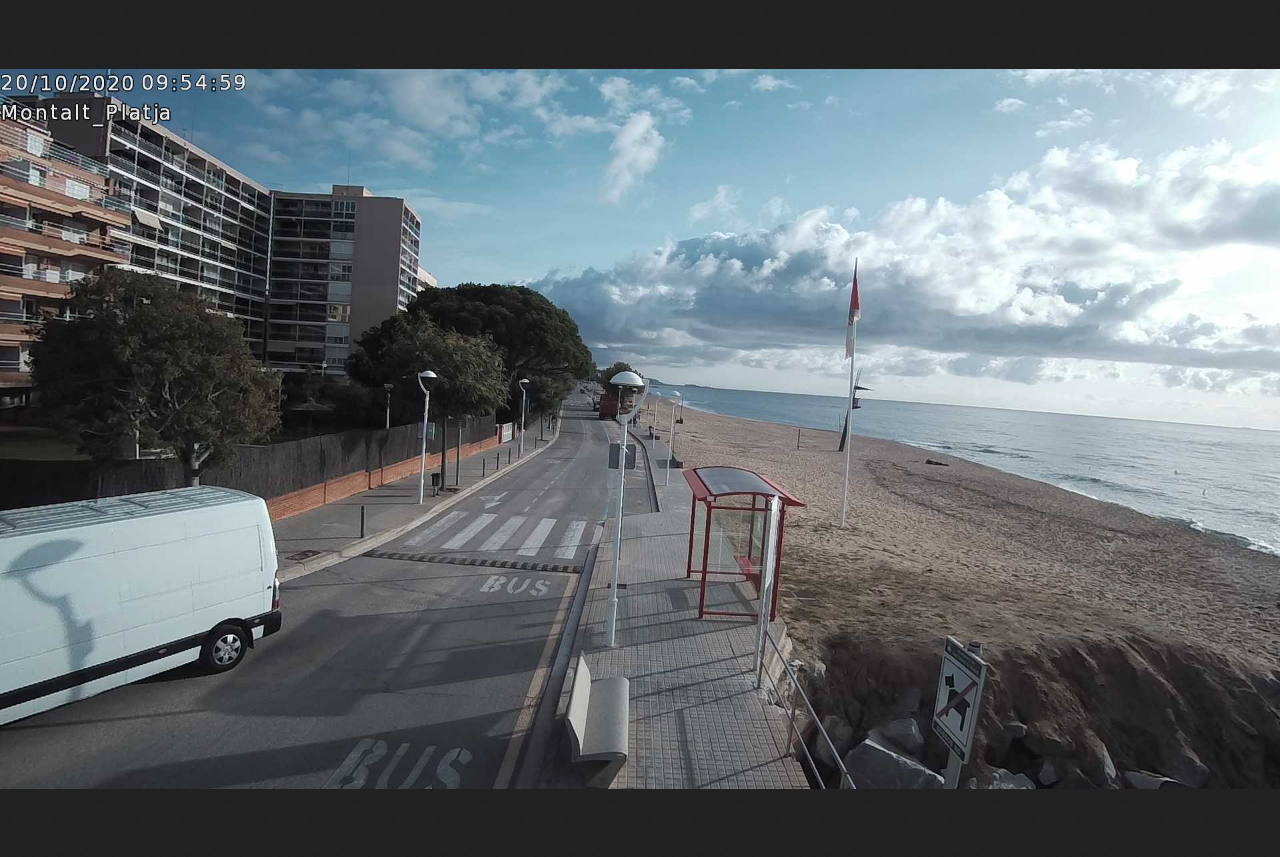no: (845, 257, 863, 358)
